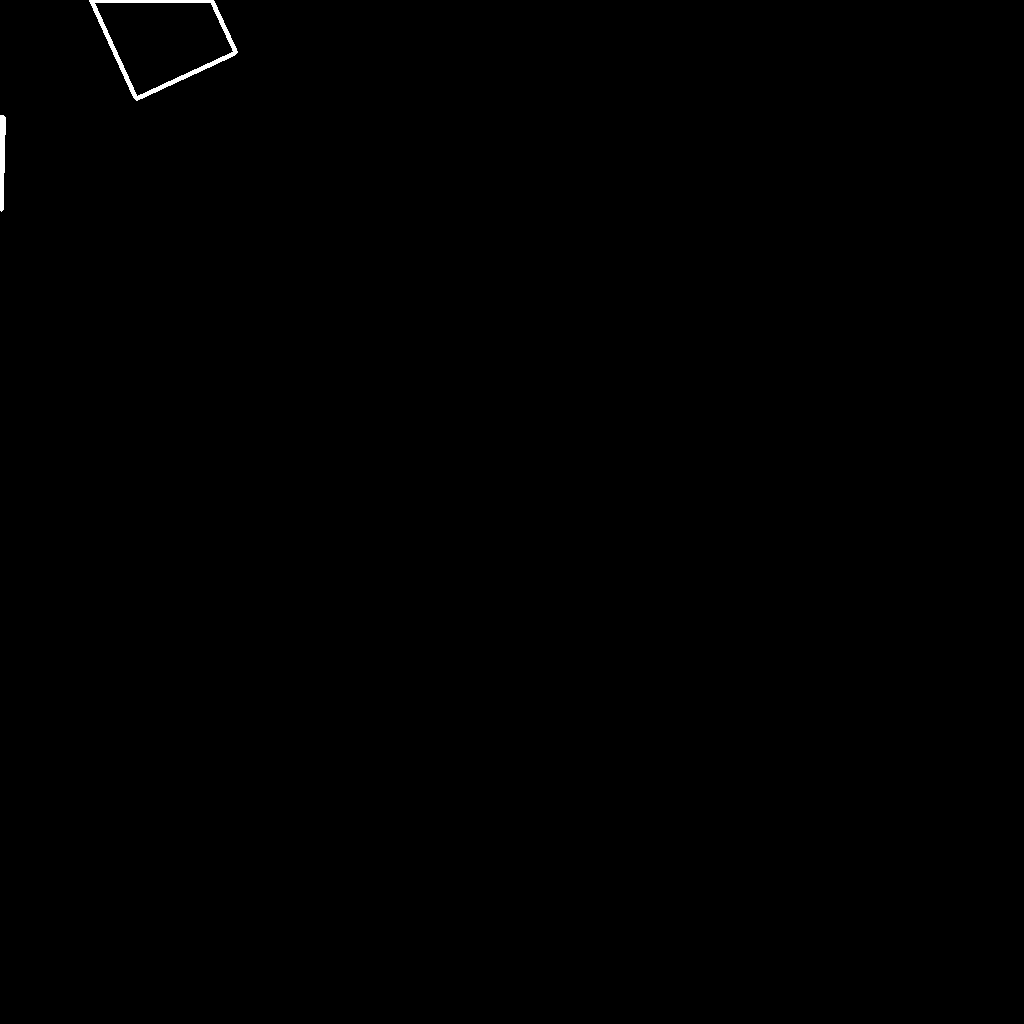building: (91, 0, 237, 100), (0, 117, 5, 229)
